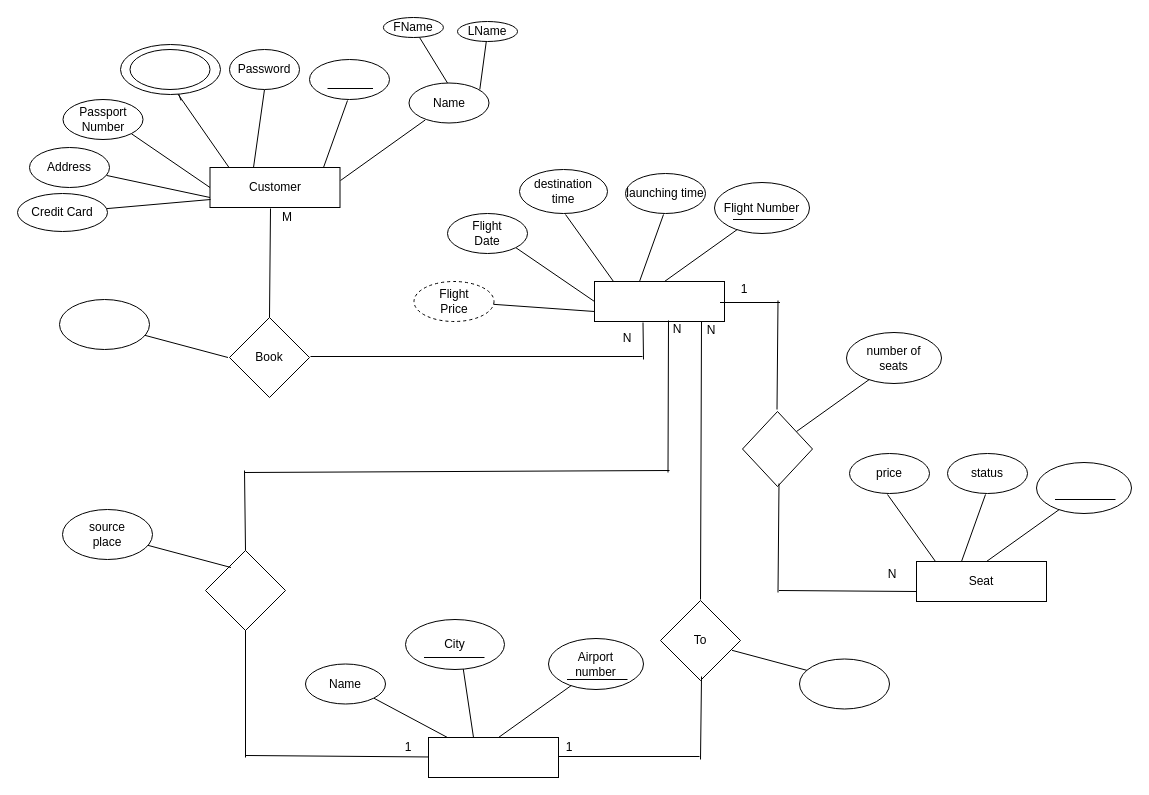
Image size: 1149x795. Some labels were removed from this diagram. Each missing label, with the centre of its shape:
Airport: (x=493, y=757)
destination place: (x=844, y=683)
Email: (x=349, y=79)
Flight: (x=659, y=301)
from: (x=245, y=590)
Has: (x=777, y=448)
Number of flights: (x=104, y=324)
Phone Number: (x=169, y=69)
seat number: (x=1084, y=488)
